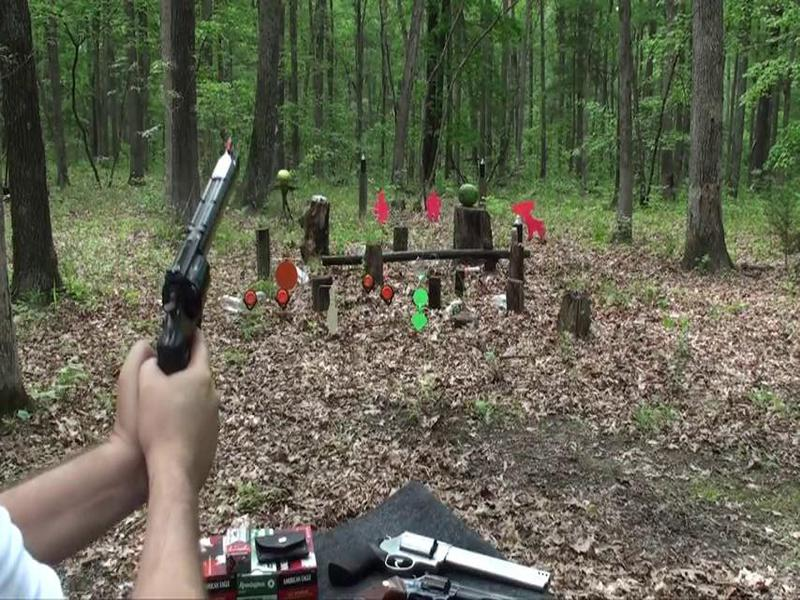Revolver: (137, 140, 253, 414)
